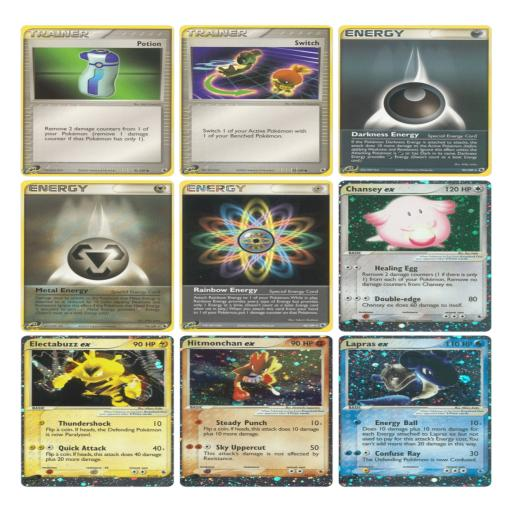card: (20, 180, 175, 332), (180, 24, 333, 177), (21, 335, 174, 488), (339, 24, 492, 176), (179, 180, 332, 332), (339, 180, 491, 333), (21, 25, 175, 176), (180, 335, 332, 487), (340, 336, 492, 487)
